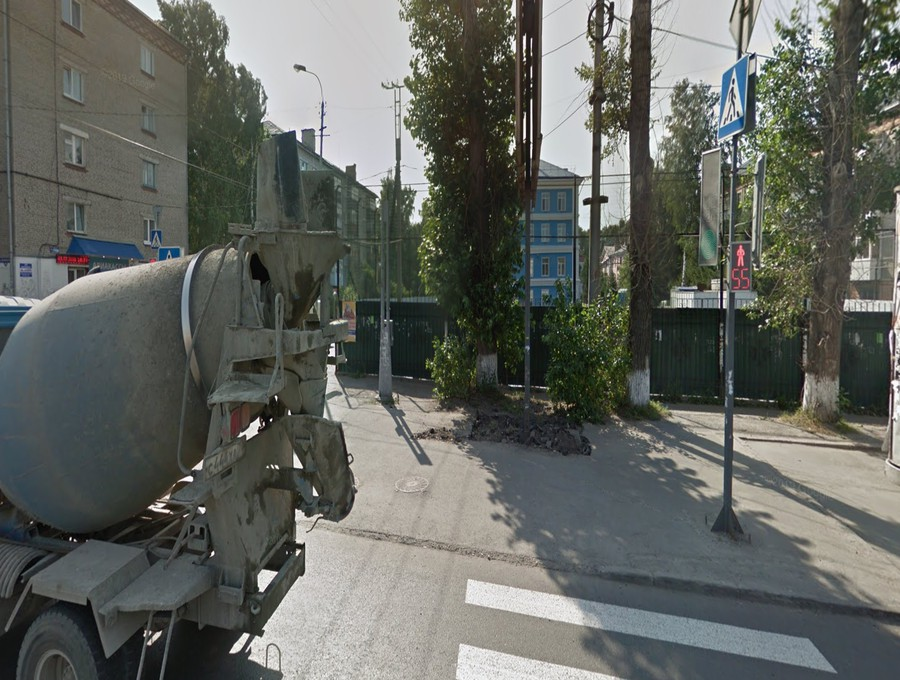Traffic Light-red: (728, 240, 755, 294)
